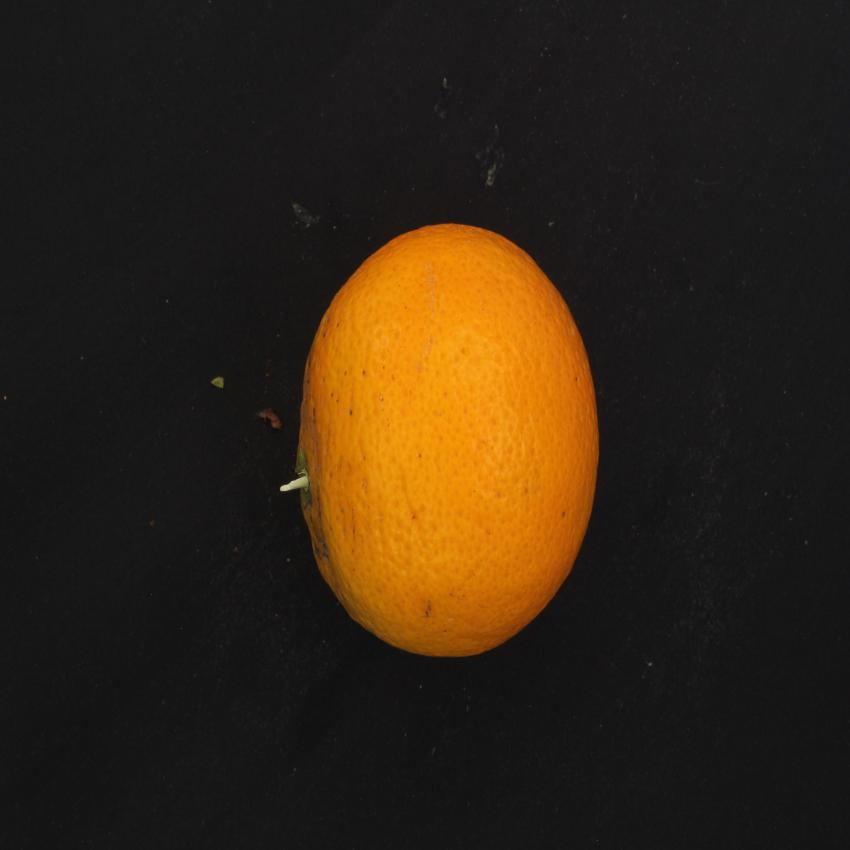Buen estado: (277, 211, 609, 676)
